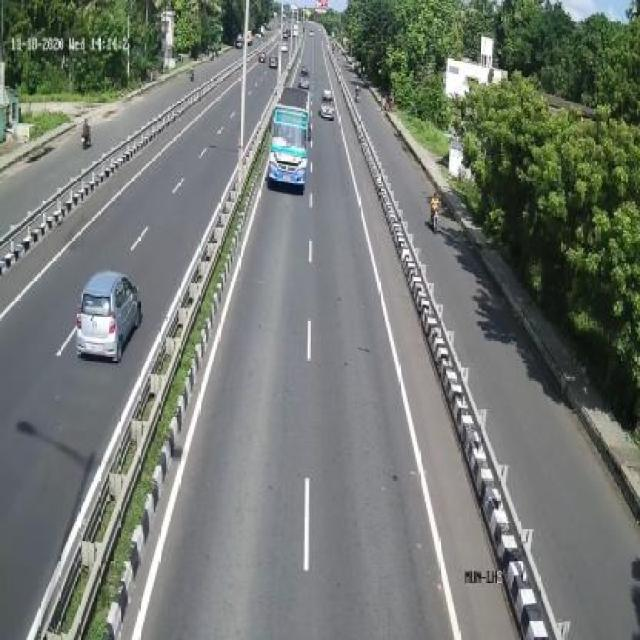car: (74, 263, 141, 359)
